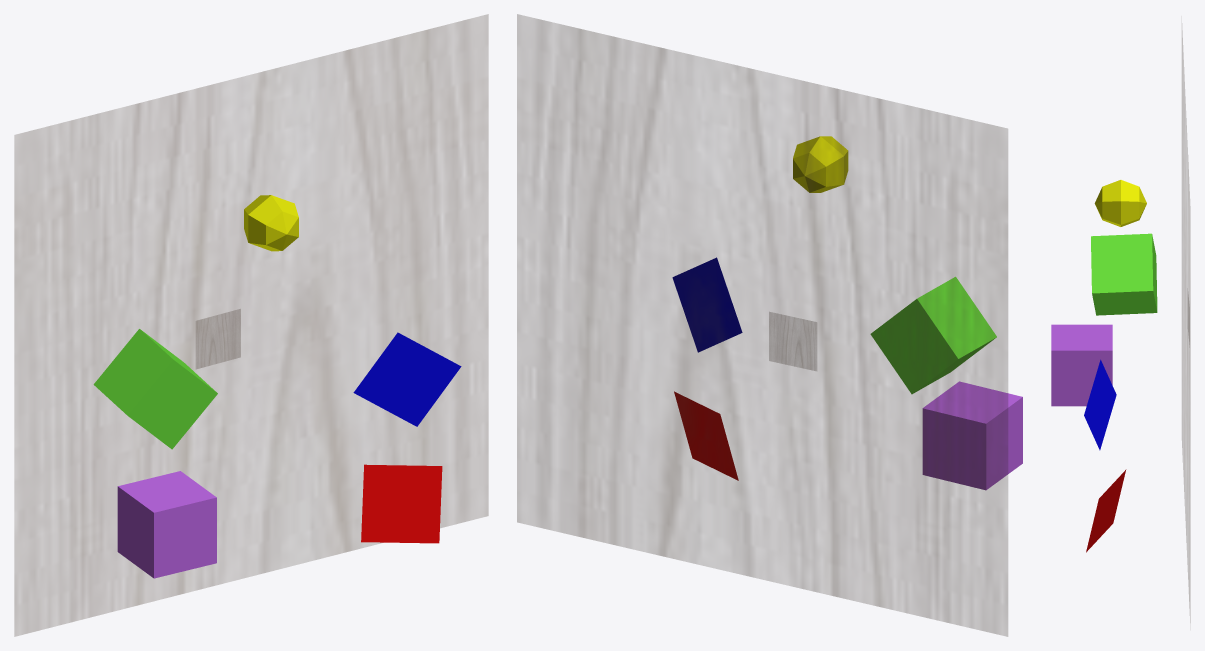
The model's file is walnut.glb.
The picture shows the model from 3 angles, left to right: view 1: azimuth 30°, elevation 25°; view 2: azimuth 150°, elevation 25°; view 3: azimuth 270°, elevation 25°; orthographic projection. The views are drawn at different scales.
Visible parts, largest first — view 1: walnut.001, Cube, Cube.001, Plane.001, Plane.002, Sphere, walnut; view 2: walnut.001, Cube, Cube.001, Plane.002, Plane.001, Sphere, walnut; view 3: Cube.001, Cube, walnut.001, Sphere, Plane.002, Plane.001.
Part boxes in pixels (x1,y1,x2,y2): walnut.001: [14, 14, 488, 636]; Cube: [117, 471, 216, 578]; Cube.001: [93, 329, 217, 449]; Plane.001: [361, 464, 442, 543]; Plane.002: [353, 332, 461, 426]; Sphere: [244, 195, 298, 251]; walnut: [196, 309, 240, 368]; walnut.001: [517, 14, 1007, 636]; Cube: [922, 381, 1022, 490]; Cube.001: [870, 276, 996, 394]; Plane.002: [672, 257, 742, 352]; Plane.001: [674, 391, 738, 480]; Sphere: [793, 136, 848, 192]; walnut: [769, 312, 816, 370]; Cube.001: [1091, 233, 1157, 315]; Cube: [1051, 324, 1112, 406]; walnut.001: [1182, 31, 1190, 622]; Sphere: [1094, 180, 1146, 226]; Plane.002: [1084, 359, 1116, 450]; Plane.001: [1086, 469, 1126, 552].
Size of the model in its own units: 10.3 by 10.3 by 3.07.
6 materials, 1 textured.
